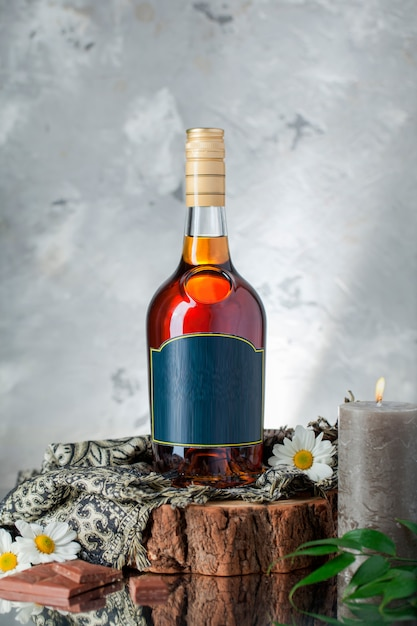alcohol: (142, 120, 269, 488)
